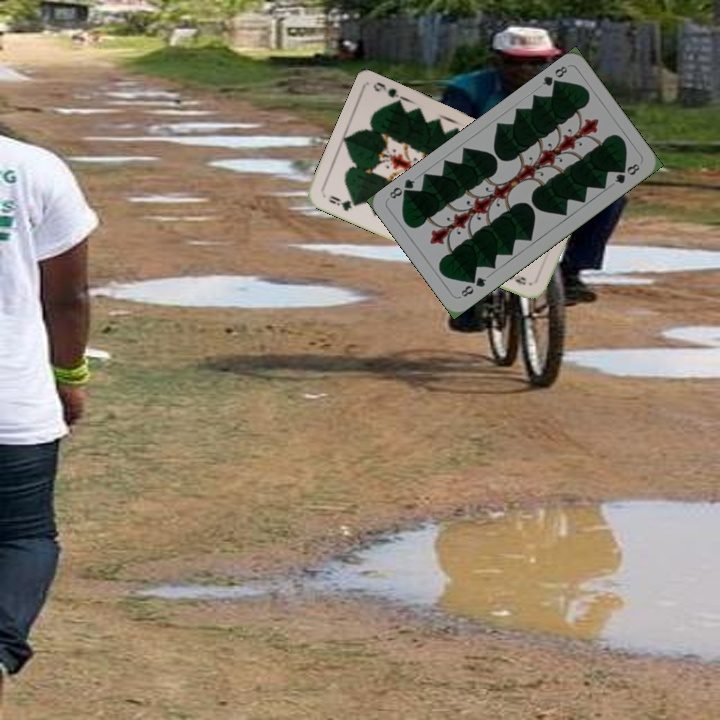G8: (538, 62, 570, 91), (457, 273, 489, 300)
G9: (325, 191, 361, 214)
